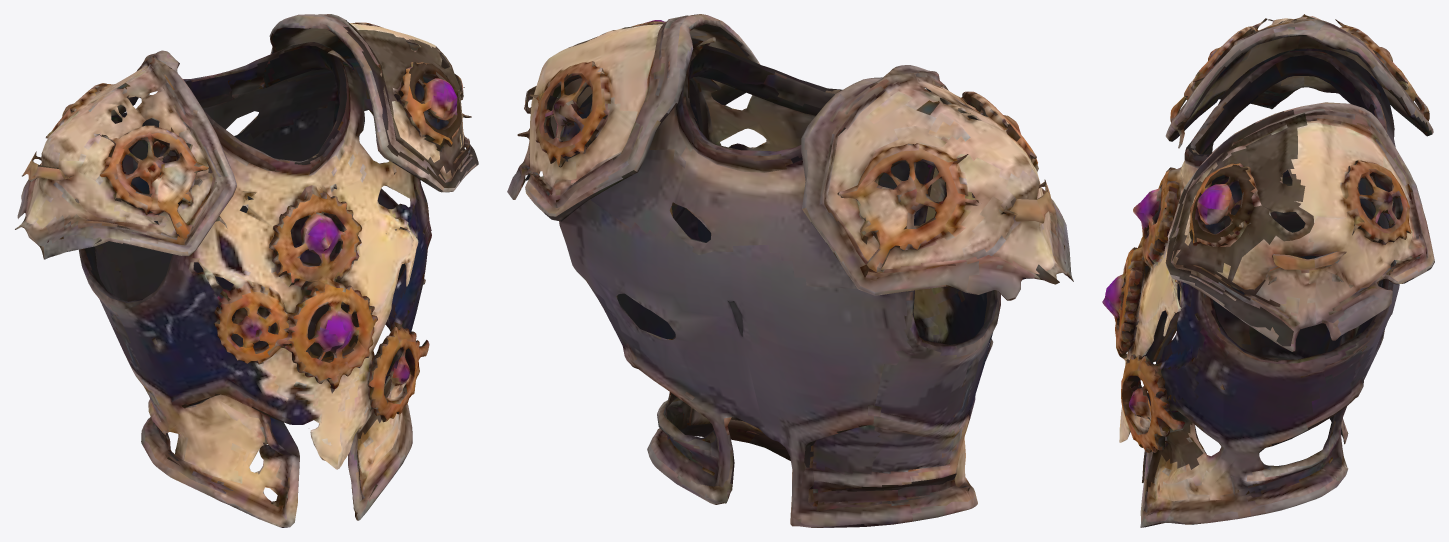
File: tempo-peitoral.glb
3 views of the same model, side by side, from view 1: azimuth 30°, elevation 25°; view 2: azimuth 150°, elevation 25°; view 3: azimuth 270°, elevation 25° (orthographic). The views are drawn at different scales.
Visible parts, largest first — view 1: tripo_node_dc8710aa-ccb6-40a3-ba8e-83cbdc3de7e3; view 2: tripo_node_dc8710aa-ccb6-40a3-ba8e-83cbdc3de7e3; view 3: tripo_node_dc8710aa-ccb6-40a3-ba8e-83cbdc3de7e3.
Part boxes in pixels (bbox=[...]): tripo_node_dc8710aa-ccb6-40a3-ba8e-83cbdc3de7e3: bbox=[15, 14, 478, 527]; tripo_node_dc8710aa-ccb6-40a3-ba8e-83cbdc3de7e3: bbox=[507, 14, 1073, 527]; tripo_node_dc8710aa-ccb6-40a3-ba8e-83cbdc3de7e3: bbox=[1102, 14, 1434, 527].
Size of the model in its own units: 0.9691 by 0.8825 by 0.5915.
1 material, 1 textured.
